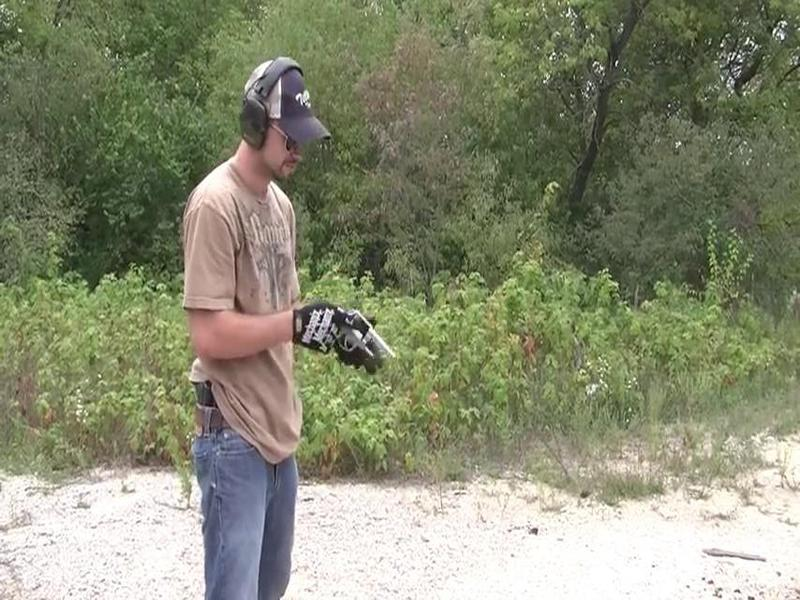Revolver: (323, 304, 407, 394)
